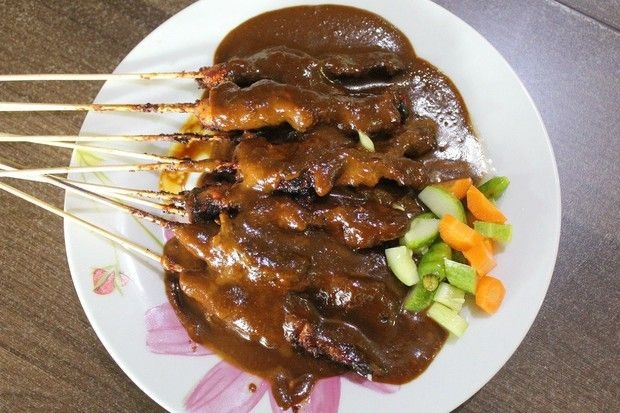sate_madura: (1, 50, 402, 375)
